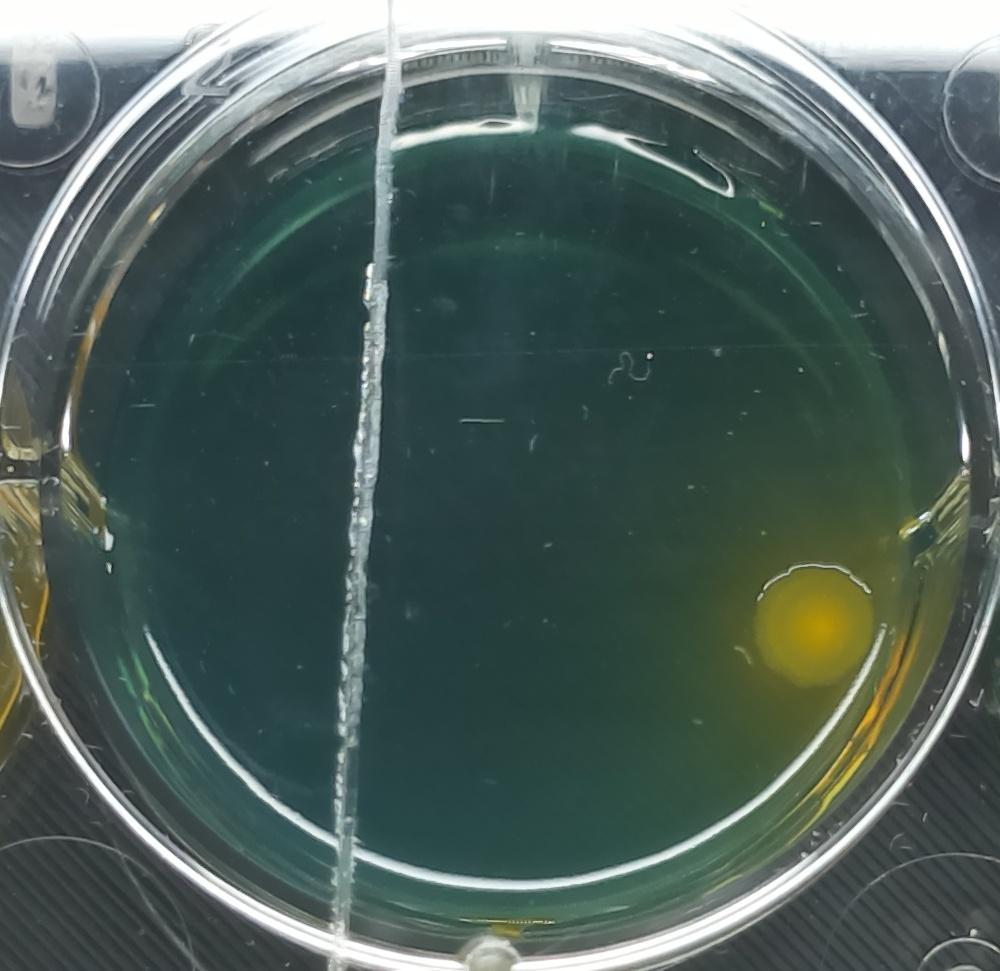vharveyi: (741, 547, 893, 695)
